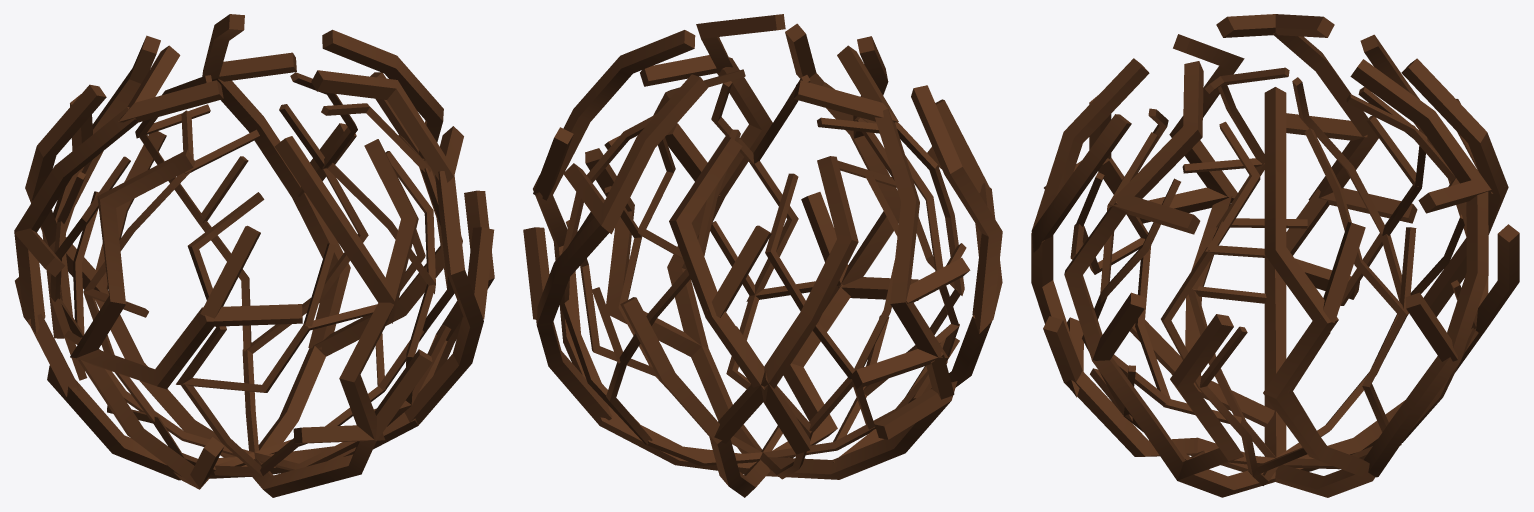
Rendered from SpinFlower.fbx.
3 views of the same model, side by side, from view 1: azimuth 30°, elevation 25°; view 2: azimuth 150°, elevation 25°; view 3: azimuth 270°, elevation 25° (orthographic).
Parts seen in each view (by area): view 1: SpinFlower000; view 2: SpinFlower000; view 3: SpinFlower000.
Part boxes in pixels (bbox=[...]): SpinFlower000: bbox=[14, 14, 494, 497]; SpinFlower000: bbox=[523, 14, 1002, 497]; SpinFlower000: bbox=[1031, 14, 1519, 497].
Size of the model in its own units: 41.65 by 40.85 by 41.57.
